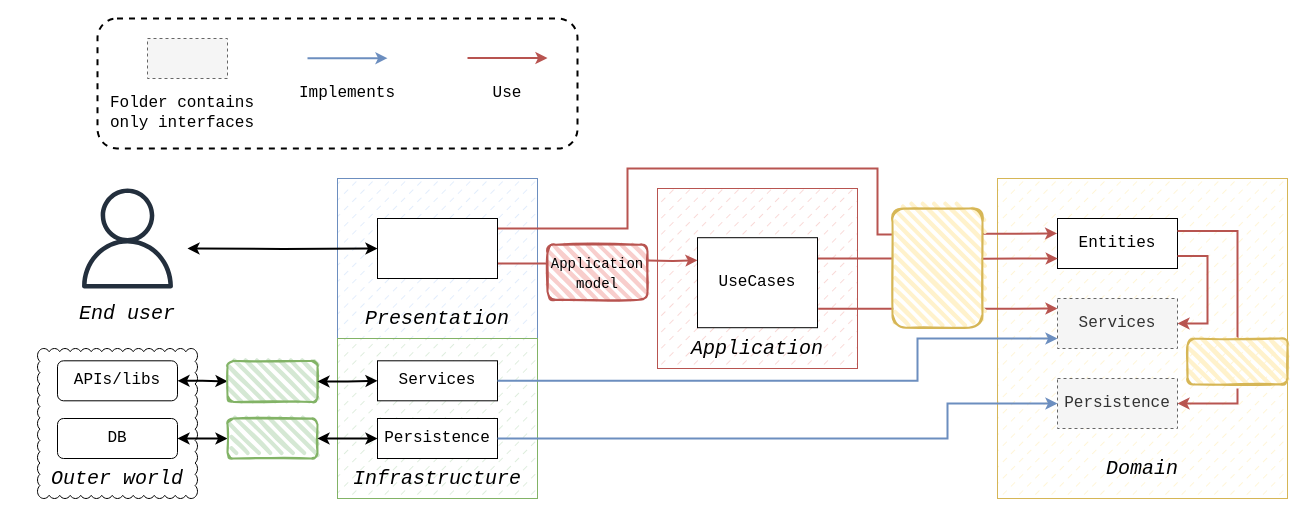
This 1305x516 diagram has some shape labels left out. Here are the shapes that lost their labels. From the top down, the centre of each, then its label:
(437,248): Handlers
(937,267): Domain models
(272,380): Service models
(1237,361): Persistence models
(272,438): DB models
